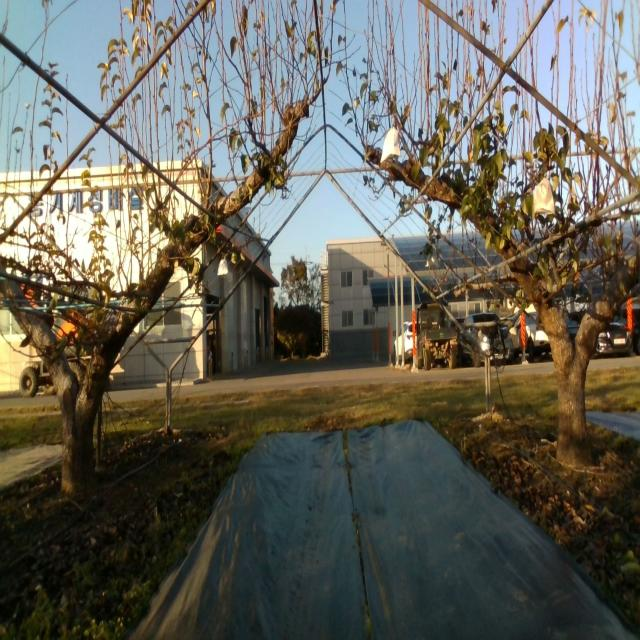pearbags: (533, 177, 556, 219), (381, 125, 402, 164), (425, 252, 439, 271), (217, 256, 228, 276)
